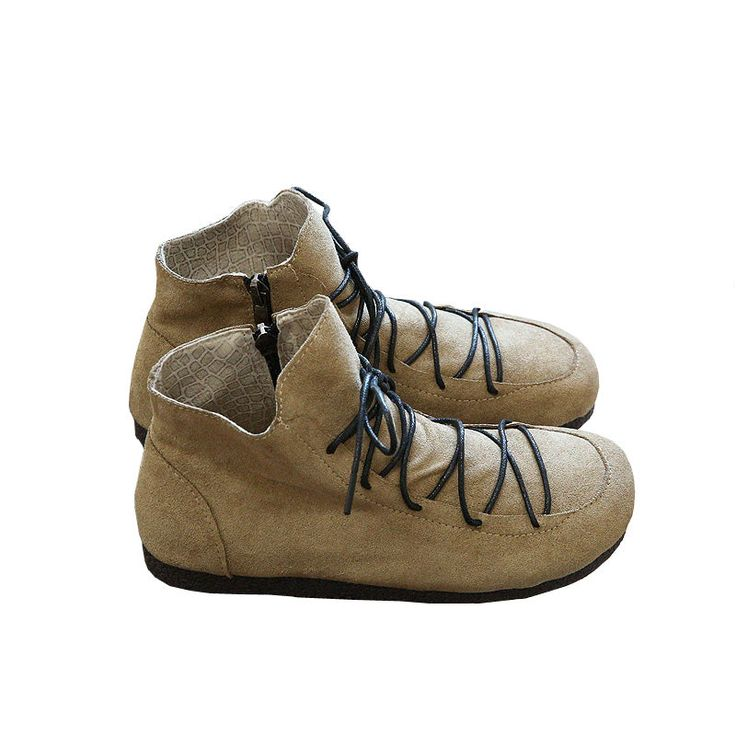gamuza: (128, 183, 635, 595)
